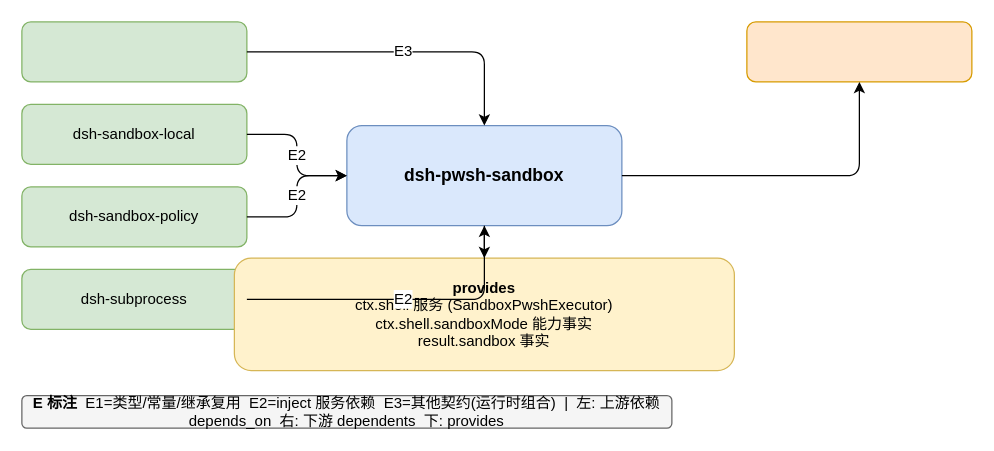
Image size: 994x451. Some labels were removed from this diagram. Here are the shapes that lost their labels. From the top down, the centre of each, then its label:
the point at 134,51: dsh-pwsh-local
the point at 859,51: dsh-tool-pwsh
